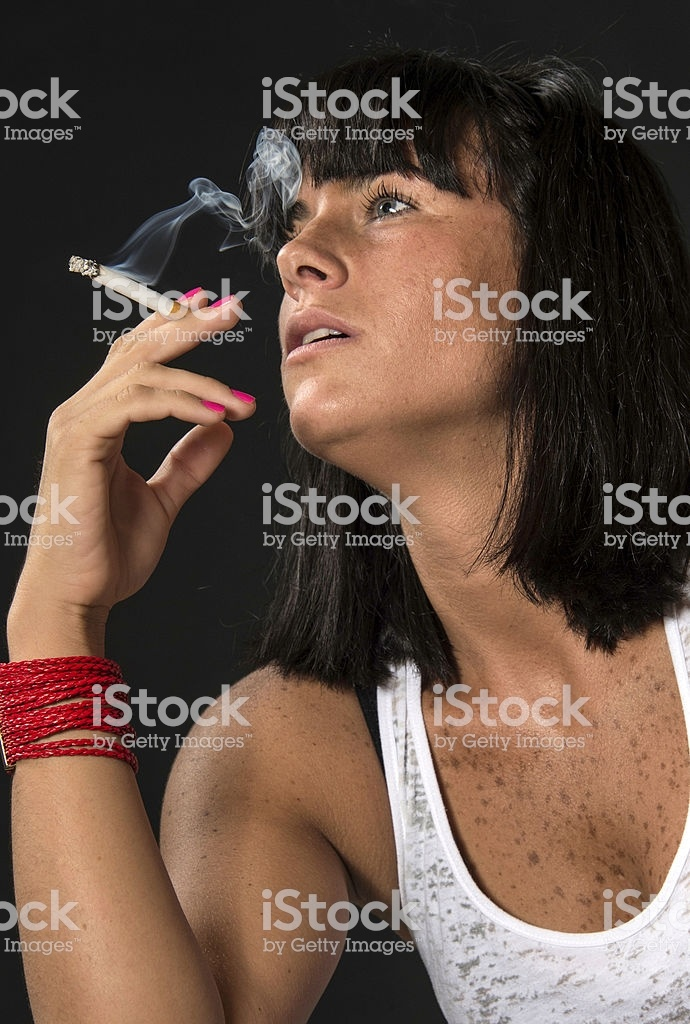sigaretta: (70, 260, 192, 327)
